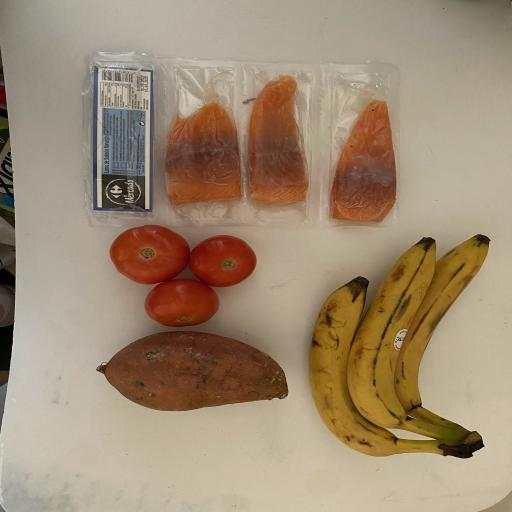banana: (301, 271, 449, 463), (343, 235, 471, 457), (389, 229, 499, 450)
salmon: (323, 96, 403, 226), (242, 73, 312, 209), (162, 96, 244, 210)
sweet_potato: (96, 328, 294, 414)
tomato: (109, 222, 192, 286), (184, 232, 262, 290), (142, 277, 223, 329)
